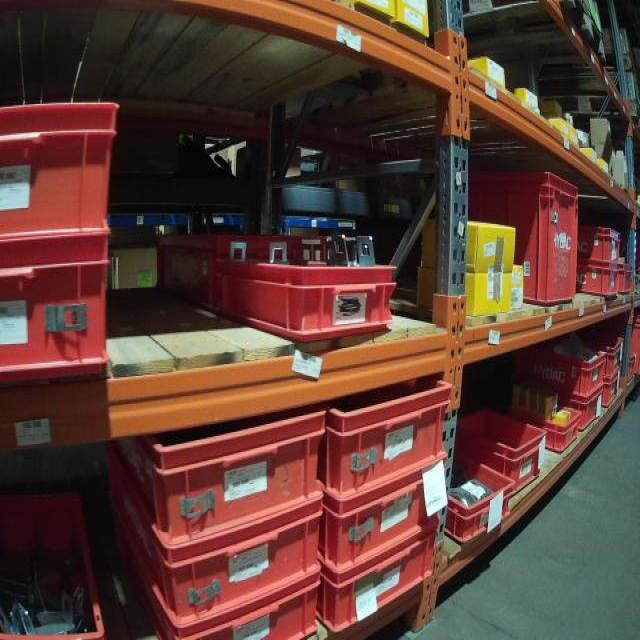pallet: (433, 0, 605, 65), (538, 87, 639, 120)
small_load_carrier: (97, 413, 322, 547), (126, 503, 326, 629), (3, 97, 124, 262), (5, 239, 114, 404), (320, 367, 456, 494), (214, 251, 398, 340), (2, 485, 108, 639), (324, 456, 444, 583), (470, 173, 581, 301), (320, 528, 438, 632), (143, 571, 324, 637), (164, 230, 324, 302), (460, 407, 547, 490), (447, 463, 517, 549), (510, 352, 598, 393), (533, 412, 574, 455), (571, 339, 624, 371), (578, 262, 620, 299), (579, 228, 622, 259), (561, 394, 598, 429), (616, 316, 639, 370), (600, 371, 626, 403), (619, 267, 634, 290)
